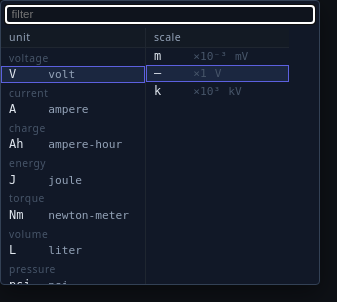
UnitPicker › says so when a filter matches nothing, rather than showing an empty column
In the search field named "Filter units": (160, 14) [5,5,315,24], type "furlong"
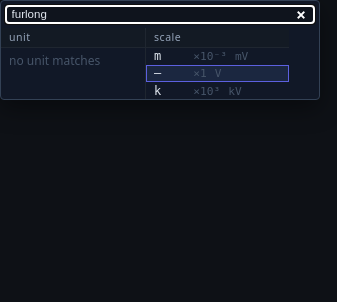
Expected: no the option "V volt" are shown
Expected: the text "no unit matches" is shown, [9,52,100,69]
